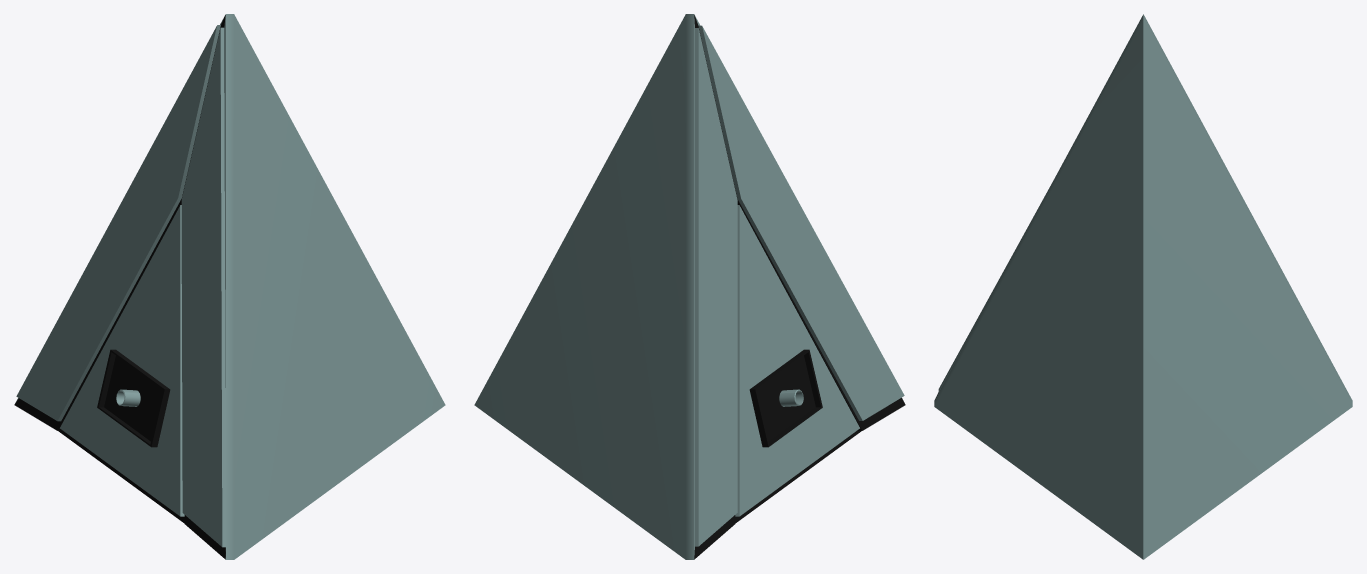
File: Transporter_01.fbx
3 renders of one model, left to right at view 1: azimuth 30°, elevation 25°; view 2: azimuth 150°, elevation 25°; view 3: azimuth 270°, elevation 25°, orthographic.
Visible parts, largest first — view 1: pCube2; view 2: pCube2; view 3: pCube2.
Boxes of the visible parts, x1,y1,x2,y2 form: pCube2: (14,14,445,559); pCube2: (474,14,905,559); pCube2: (934,14,1352,559).
Size of the model in its own units: 2.44 by 3.17 by 2.73.
